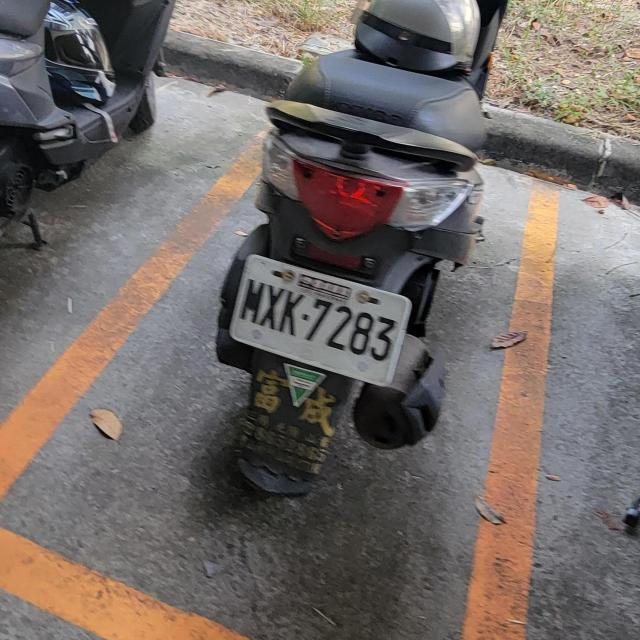W: (222, 250, 416, 386)
